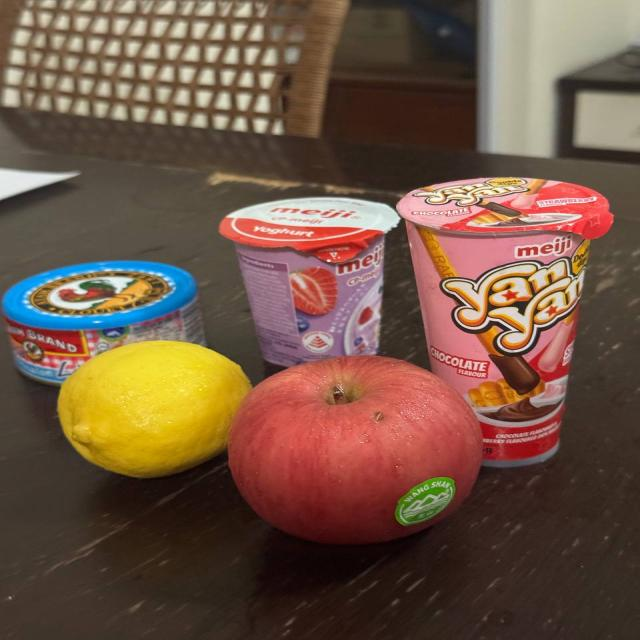apple: (218, 354, 487, 544)
lemon: (49, 332, 255, 492)
tuna-can: (0, 258, 211, 390)
yanyan-cracker: (391, 173, 620, 475)
yogurt: (207, 187, 409, 368)
